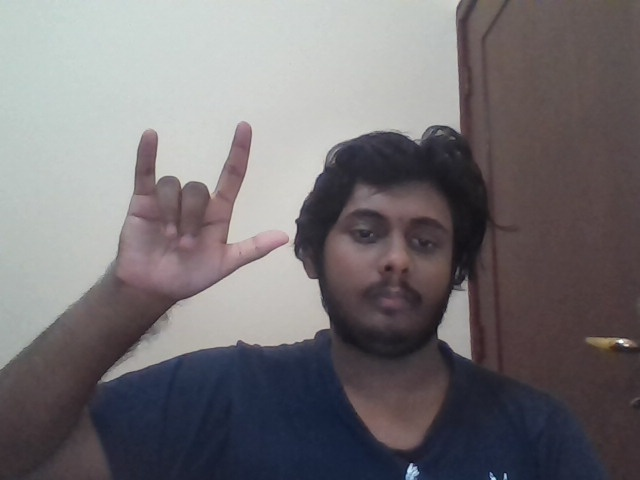iloveyou: (114, 121, 290, 302)
